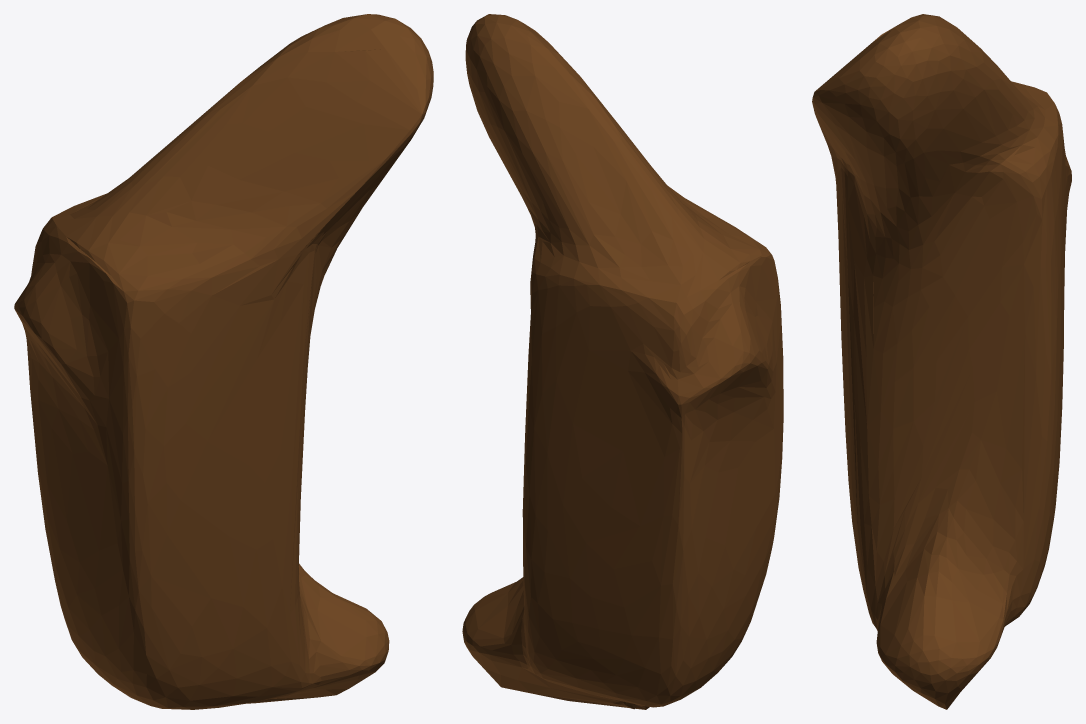
3 views of the same model, side by side, from view 1: azimuth 30°, elevation 25°; view 2: azimuth 150°, elevation 25°; view 3: azimuth 270°, elevation 25° (orthographic). The views are drawn at different scales.
Parts seen in each view (by area): view 1: 954_Cube.3860; view 2: 954_Cube.3860; view 3: 954_Cube.3860.
Boxes of the visible parts, bbox=[...] form: 954_Cube.3860: bbox=[14, 14, 433, 709]; 954_Cube.3860: bbox=[462, 14, 783, 709]; 954_Cube.3860: bbox=[812, 14, 1071, 709].
Bounding box in the file's own units: 9.47 × 17.82 × 6.07.
